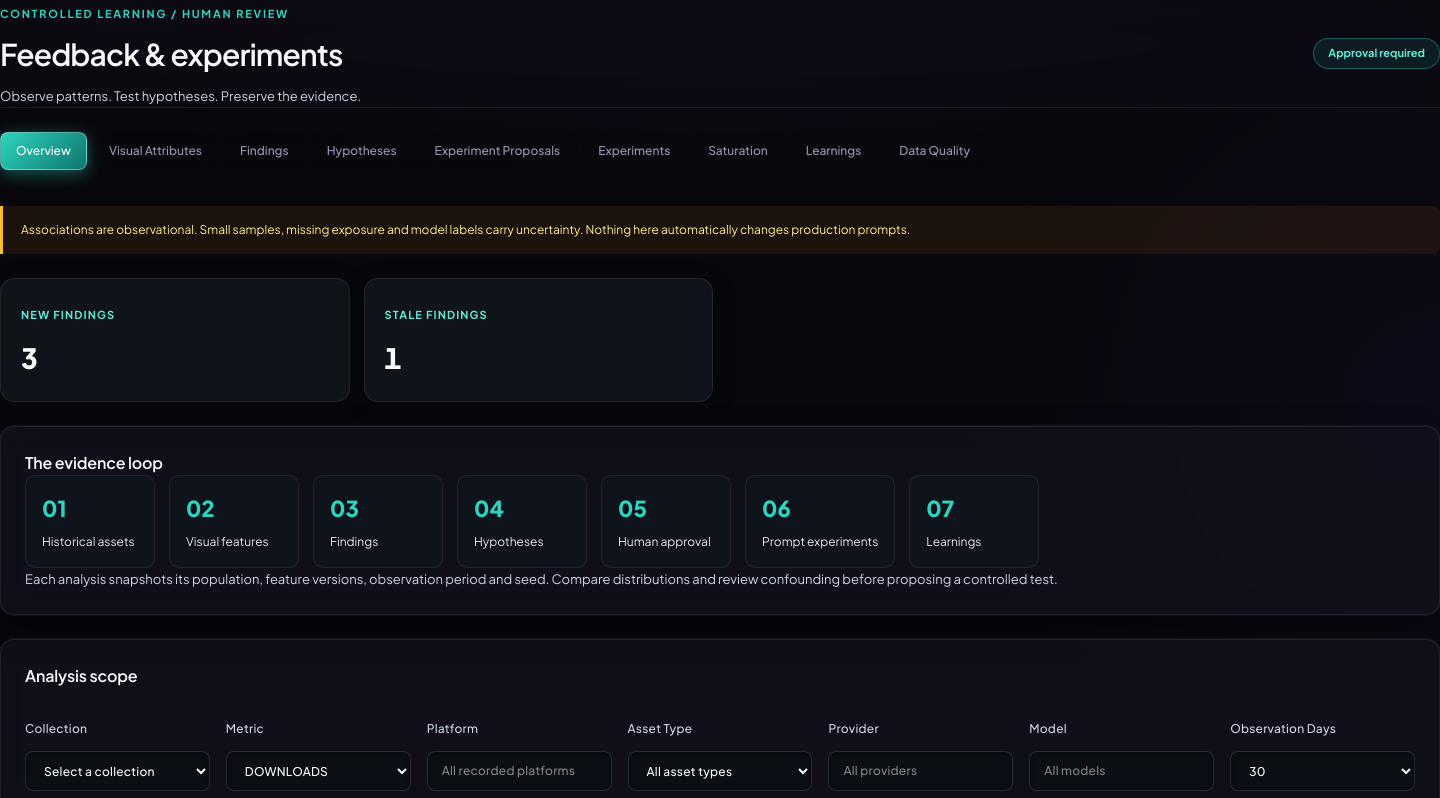
Scenario: shows budget, registered plan and funnel while blocking unapproved generation
Step 1. Click the button "Experiment Proposals" → {"x": 497, "y": 151}, box [419, 132, 576, 170]
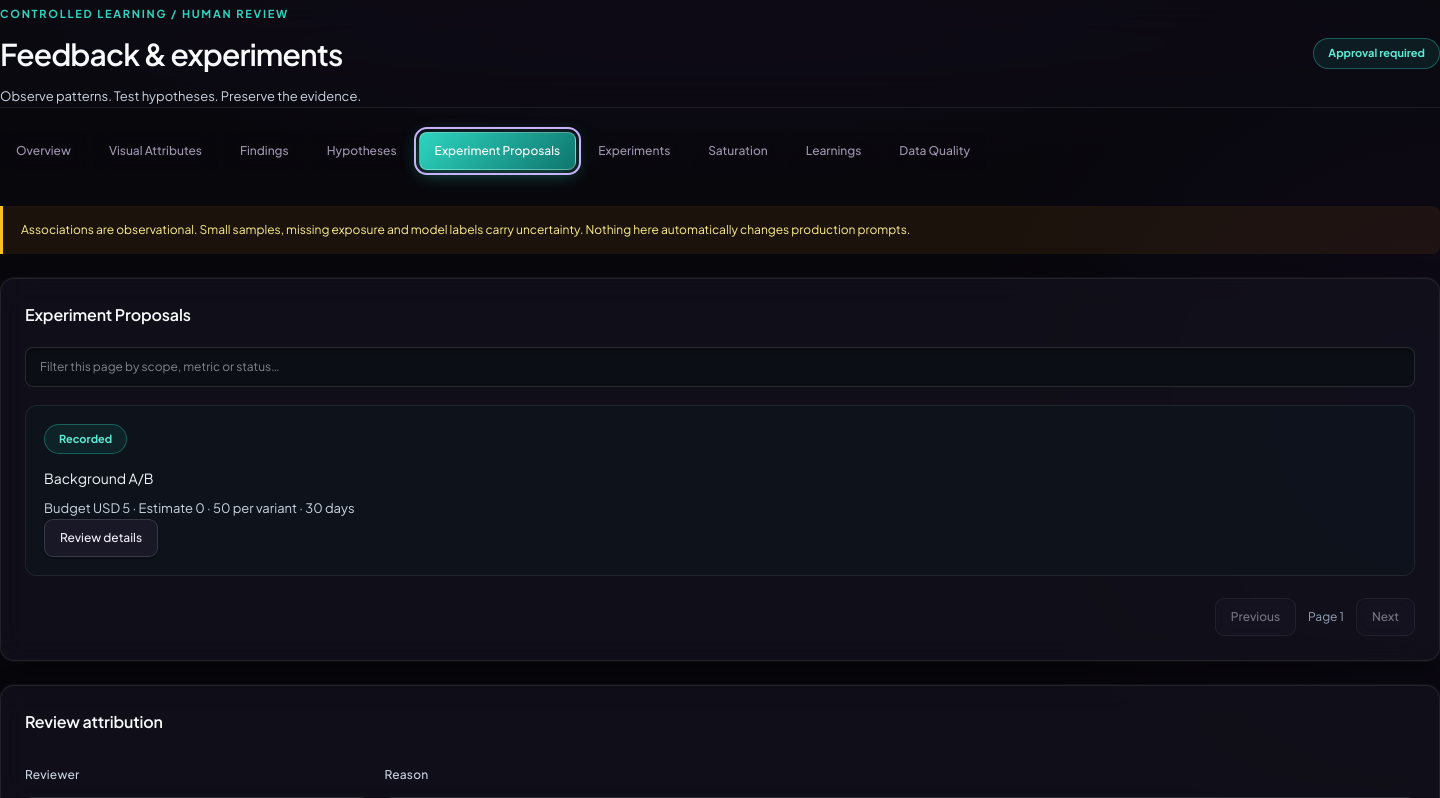
Step 2. Click the button "Review details" → {"x": 101, "y": 538}, box [44, 520, 158, 558]
(page scrolled)
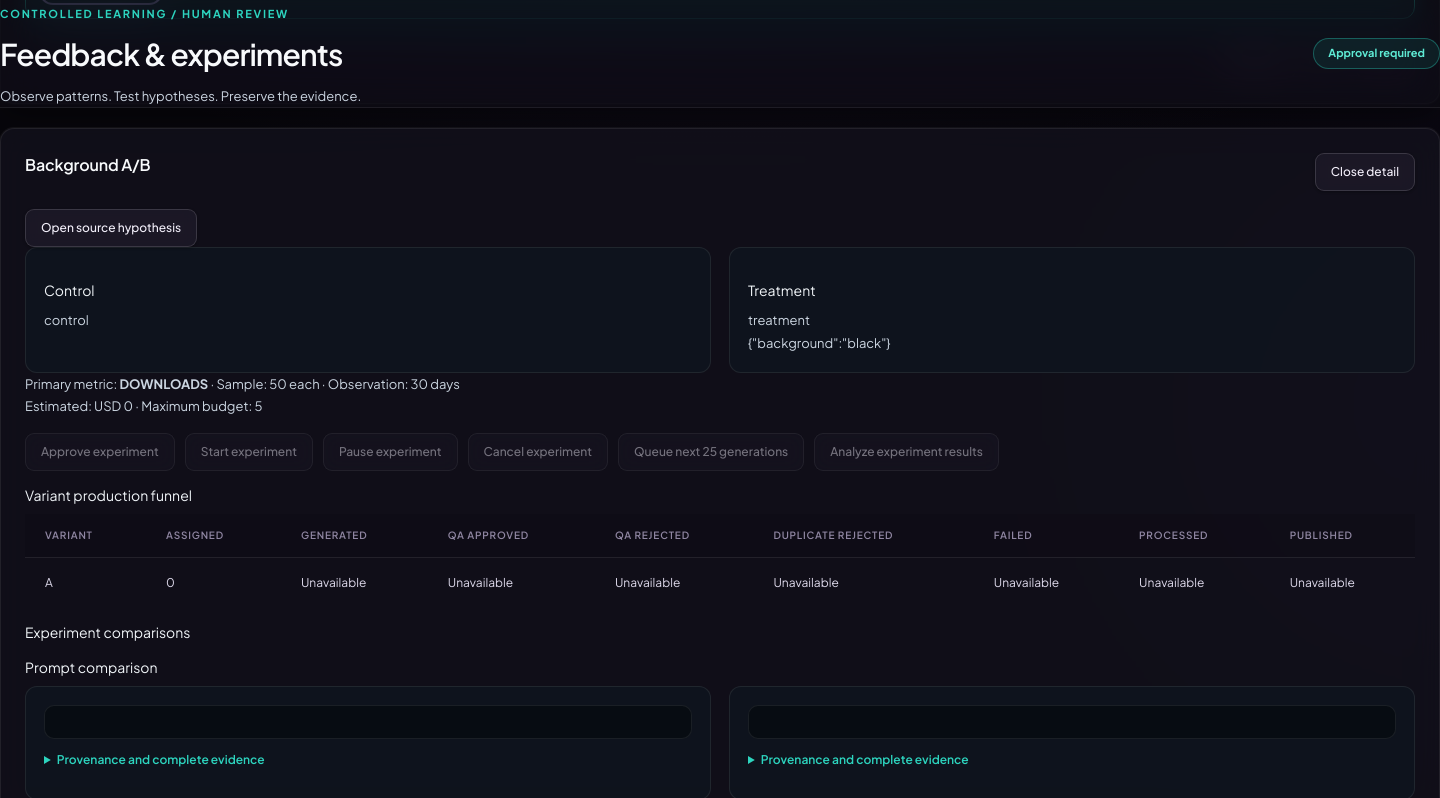
Check: the heading "Variant production funnel" is shown, box [25, 486, 192, 504]
Check: the button "Queue next 25 generations" is disabled, box [618, 433, 804, 471]
Check: the text "Estimated: USD 0 · Maximum budget: 5" is shown, box [25, 398, 262, 414]
